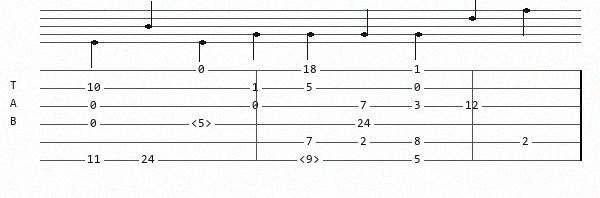0: (90, 118, 101, 130), (90, 100, 101, 112), (198, 64, 209, 76), (252, 100, 263, 112), (414, 82, 425, 94)
1: (252, 82, 263, 94), (414, 64, 425, 76)
10: (87, 82, 105, 94)
11: (87, 154, 105, 166)
12: (465, 100, 483, 112)
18: (303, 64, 321, 76)
2: (360, 136, 371, 148), (522, 136, 533, 148)
24: (141, 154, 159, 166), (357, 118, 375, 130)
3: (414, 100, 425, 112)
5: (306, 82, 317, 94), (414, 154, 425, 166)
7: (306, 136, 317, 148), (360, 100, 371, 112)
8: (414, 136, 425, 148)
harmonic: (191, 118, 216, 130), (299, 154, 324, 166)
